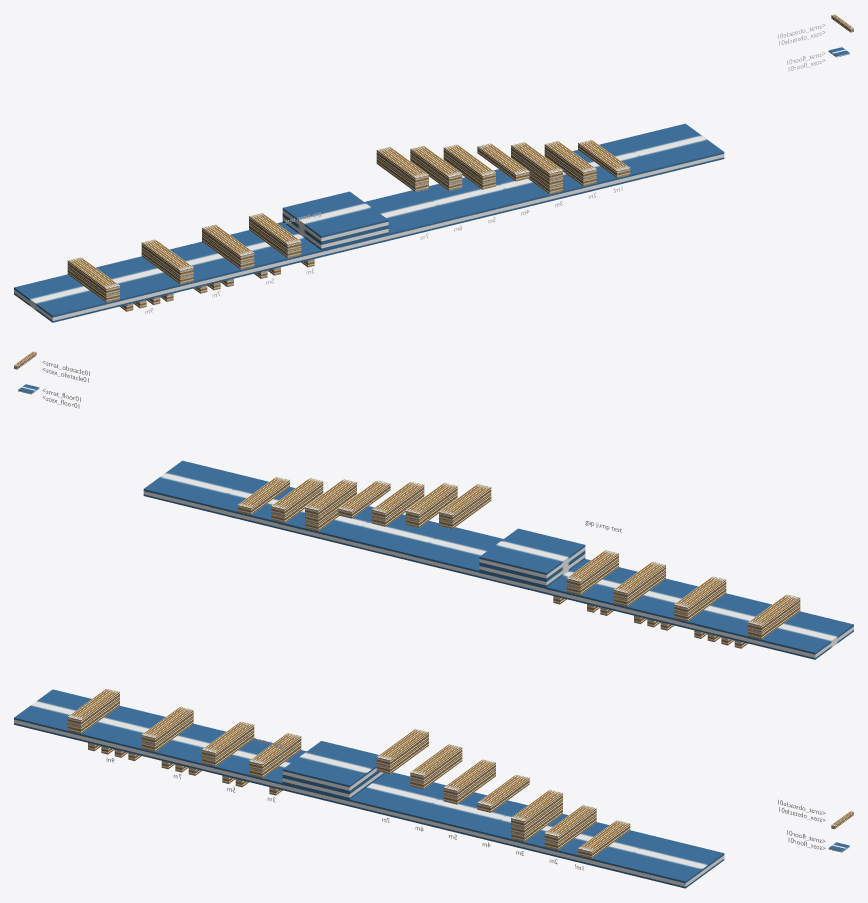
The model's file is metrics_testv001.fbx.
3 renders of one model, top to bottom at view 1: azimuth 30°, elevation 25°; view 2: azimuth 150°, elevation 25°; view 3: azimuth 330°, elevation 25°, orthographic.
Parts seen in each view (by area): view 1: 1x10m_plane.011, 1x10m_plane.001, 1x10m_plane.010, 1x10m_plane.004, 1x10m_plane.003, 1x10m_plane.009, 1x10m_plane.008, 1x10m_plane.007, 1x10m_plane, 1x10m_plane.002, 1x10m_plane.006, 1m_obstacle.048 (+10 smaller); view 2: 1x10m_plane.011, 1x10m_plane.001, 1x10m_plane.010, 1x10m_plane.004, 1x10m_plane.003, 1x10m_plane.009, 1x10m_plane.008, 1x10m_plane.007, 1x10m_plane, 1x10m_plane.002, 1x10m_plane.006, 1m_obstacle.048 (+10 smaller); view 3: 1x10m_plane.001, 1x10m_plane.011, 1x10m_plane.004, 1x10m_plane.003, 1x10m_plane.009, 1x10m_plane.010, 1x10m_plane, 1x10m_plane.008, 1x10m_plane.007, 1x10m_plane.002, 1x10m_plane.006, 1m_obstacle.041 (+11 smaller).
Boxes of the visible parts, <box> form: 1x10m_plane.011: <box>282,191,388,243</box>; 1x10m_plane.001: <box>619,123,724,175</box>; 1x10m_plane.010: <box>14,274,119,322</box>; 1x10m_plane.004: <box>364,190,455,240</box>; 1x10m_plane.003: <box>420,177,522,224</box>; 1x10m_plane.009: <box>96,256,186,306</box>; 1x10m_plane.008: <box>169,241,254,289</box>; 1x10m_plane.007: <box>230,222,321,273</box>; 1x10m_plane: <box>572,140,657,191</box>; 1x10m_plane.002: <box>493,169,589,207</box>; 1x10m_plane.006: <box>282,215,388,250</box>; 1m_obstacle.048: <box>67,258,113,295</box>; 1x10m_plane.011: <box>479,528,585,580</box>; 1x10m_plane.001: <box>143,460,248,512</box>; 1x10m_plane.010: <box>748,611,853,659</box>; 1x10m_plane.004: <box>412,527,503,577</box>; 1x10m_plane.003: <box>345,514,447,561</box>; 1x10m_plane.009: <box>681,593,771,643</box>; 1x10m_plane.008: <box>613,578,698,626</box>; 1x10m_plane.007: <box>546,559,637,610</box>; 1x10m_plane: <box>210,477,295,528</box>; 1x10m_plane.002: <box>278,506,374,544</box>; 1x10m_plane.006: <box>479,552,585,587</box>; 1m_obstacle.048: <box>754,595,800,632</box>; 1x10m_plane.001: <box>618,837,724,888</box>; 1x10m_plane.011: <box>282,741,378,792</box>; 1x10m_plane.004: <box>349,772,445,822</box>; 1x10m_plane.003: <box>417,792,522,839</box>; 1x10m_plane.009: <box>81,706,165,757</box>; 1x10m_plane.010: <box>14,689,91,740</box>; 1x10m_plane: <box>551,822,656,871</box>; 1x10m_plane.008: <box>148,724,225,773</box>; 1x10m_plane.007: <box>215,738,306,790</box>; 1x10m_plane.002: <box>484,804,568,855</box>; 1x10m_plane.006: <box>282,771,385,799</box>; 1m_obstacle.041: <box>208,723,254,759</box>.
Bounding box in the file's own units: 12100 × 1520 × 1000.
